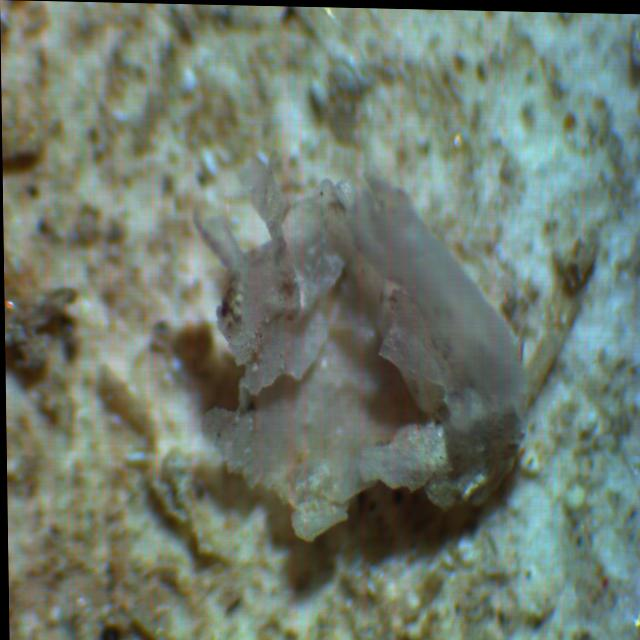microplastic: (193, 148, 532, 548)
